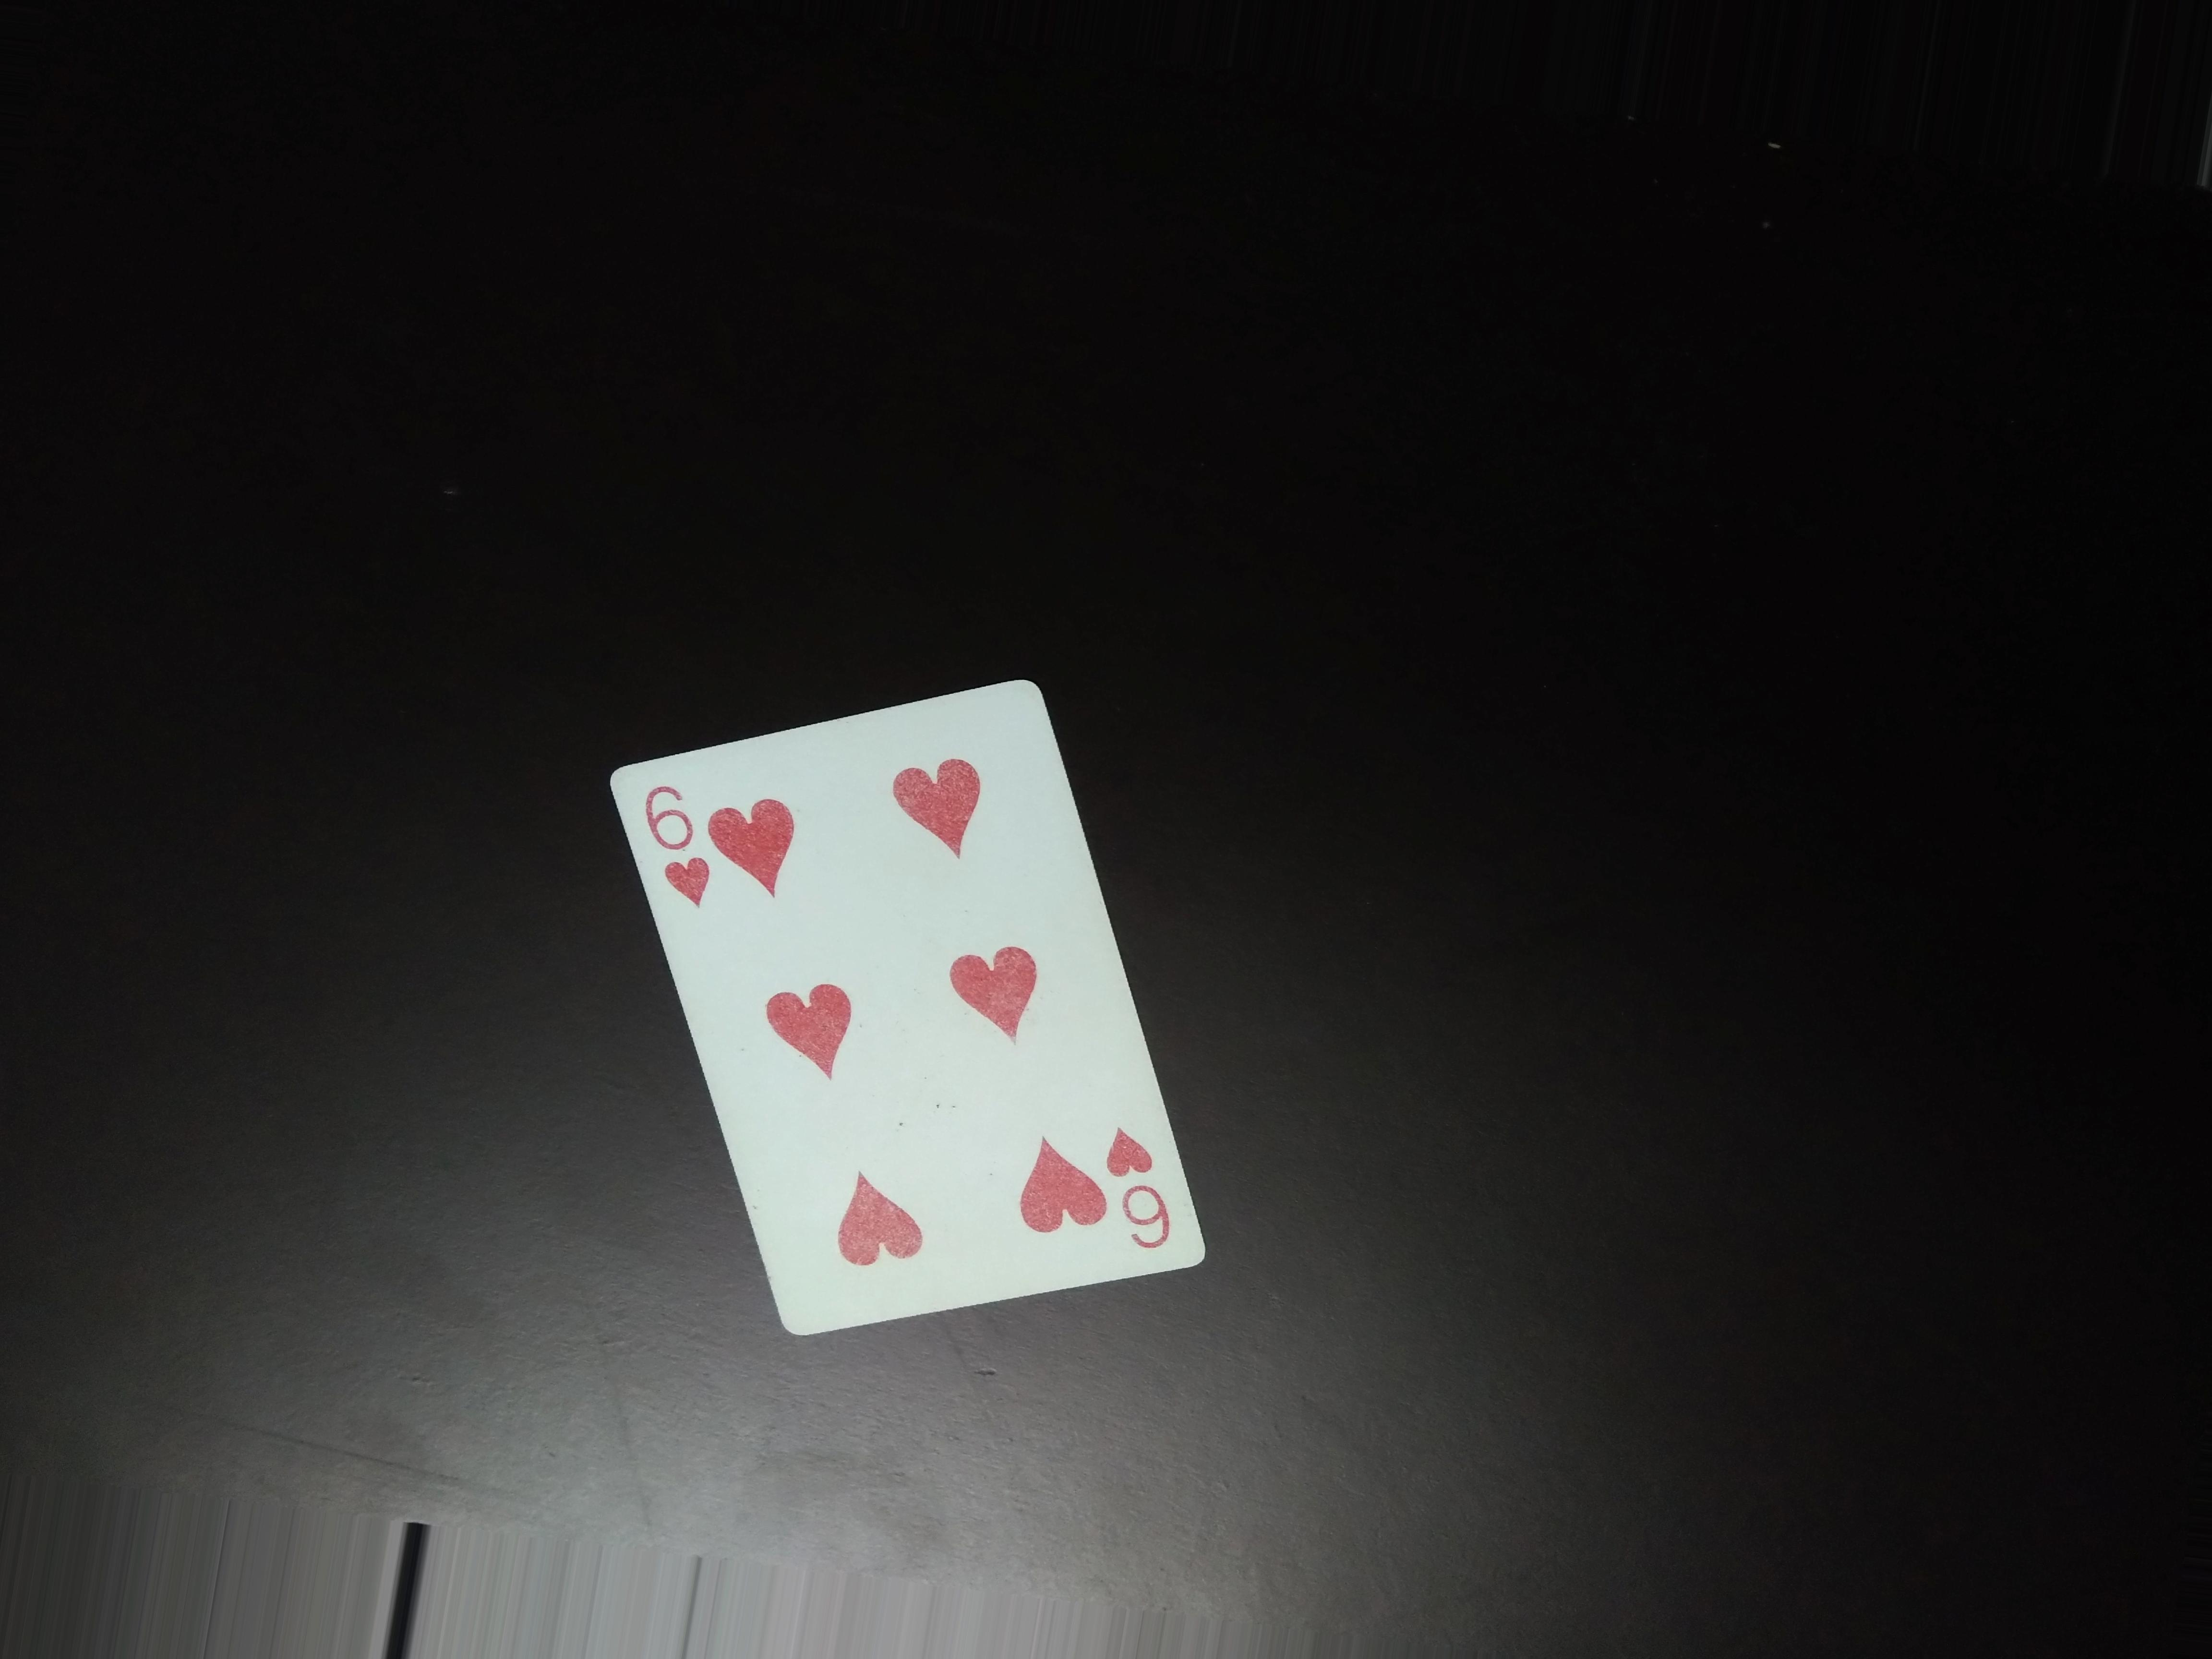6H: (641, 779, 712, 906)
